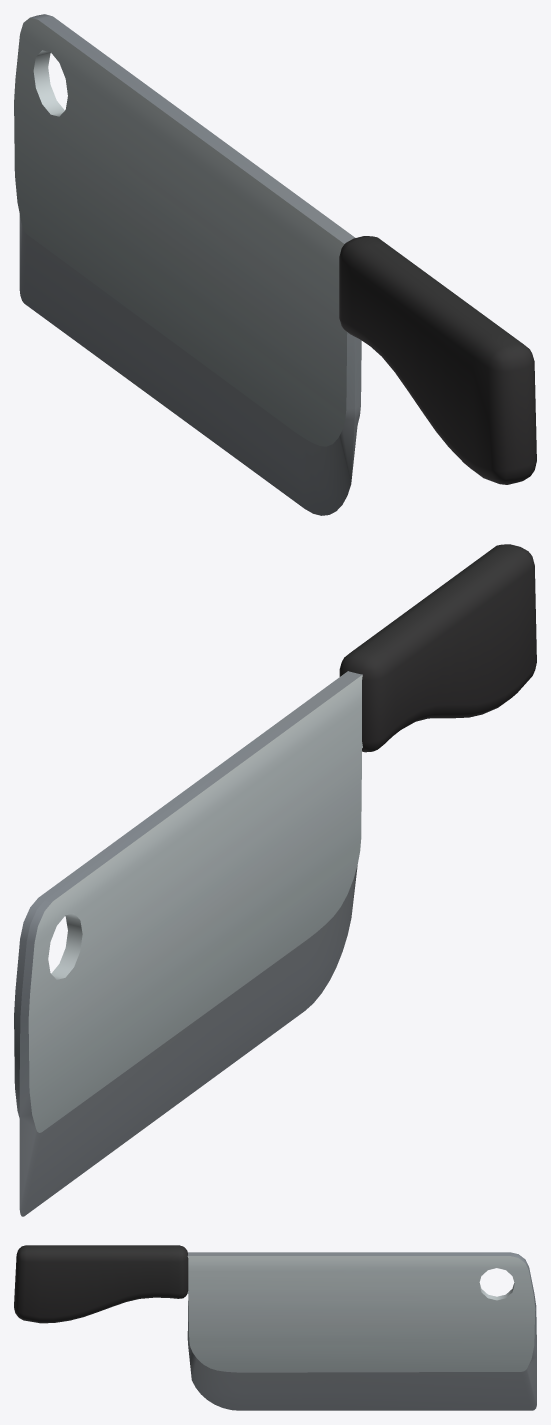
File: BigKnife.fbx
3 renders of one model, top to bottom at view 1: azimuth 30°, elevation 25°; view 2: azimuth 150°, elevation 25°; view 3: azimuth 270°, elevation 25°, orthographic. The views are drawn at different scales.
Visible parts, largest first — view 1: Cube.031; view 2: Cube.031; view 3: Cube.031.
Boxes of the visible parts, bbox=[...] form: Cube.031: bbox=[14, 14, 536, 515]; Cube.031: bbox=[14, 544, 536, 1216]; Cube.031: bbox=[14, 1245, 536, 1410].
Bounding box in the file's own units: 0.3103 × 2.12 × 6.14.
